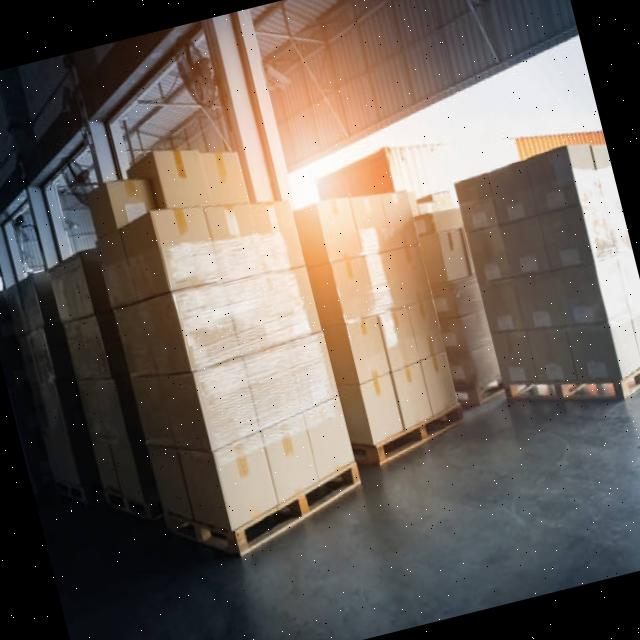Wooden-Pallets: (238, 460, 361, 560), (376, 401, 467, 468), (617, 361, 640, 408)
